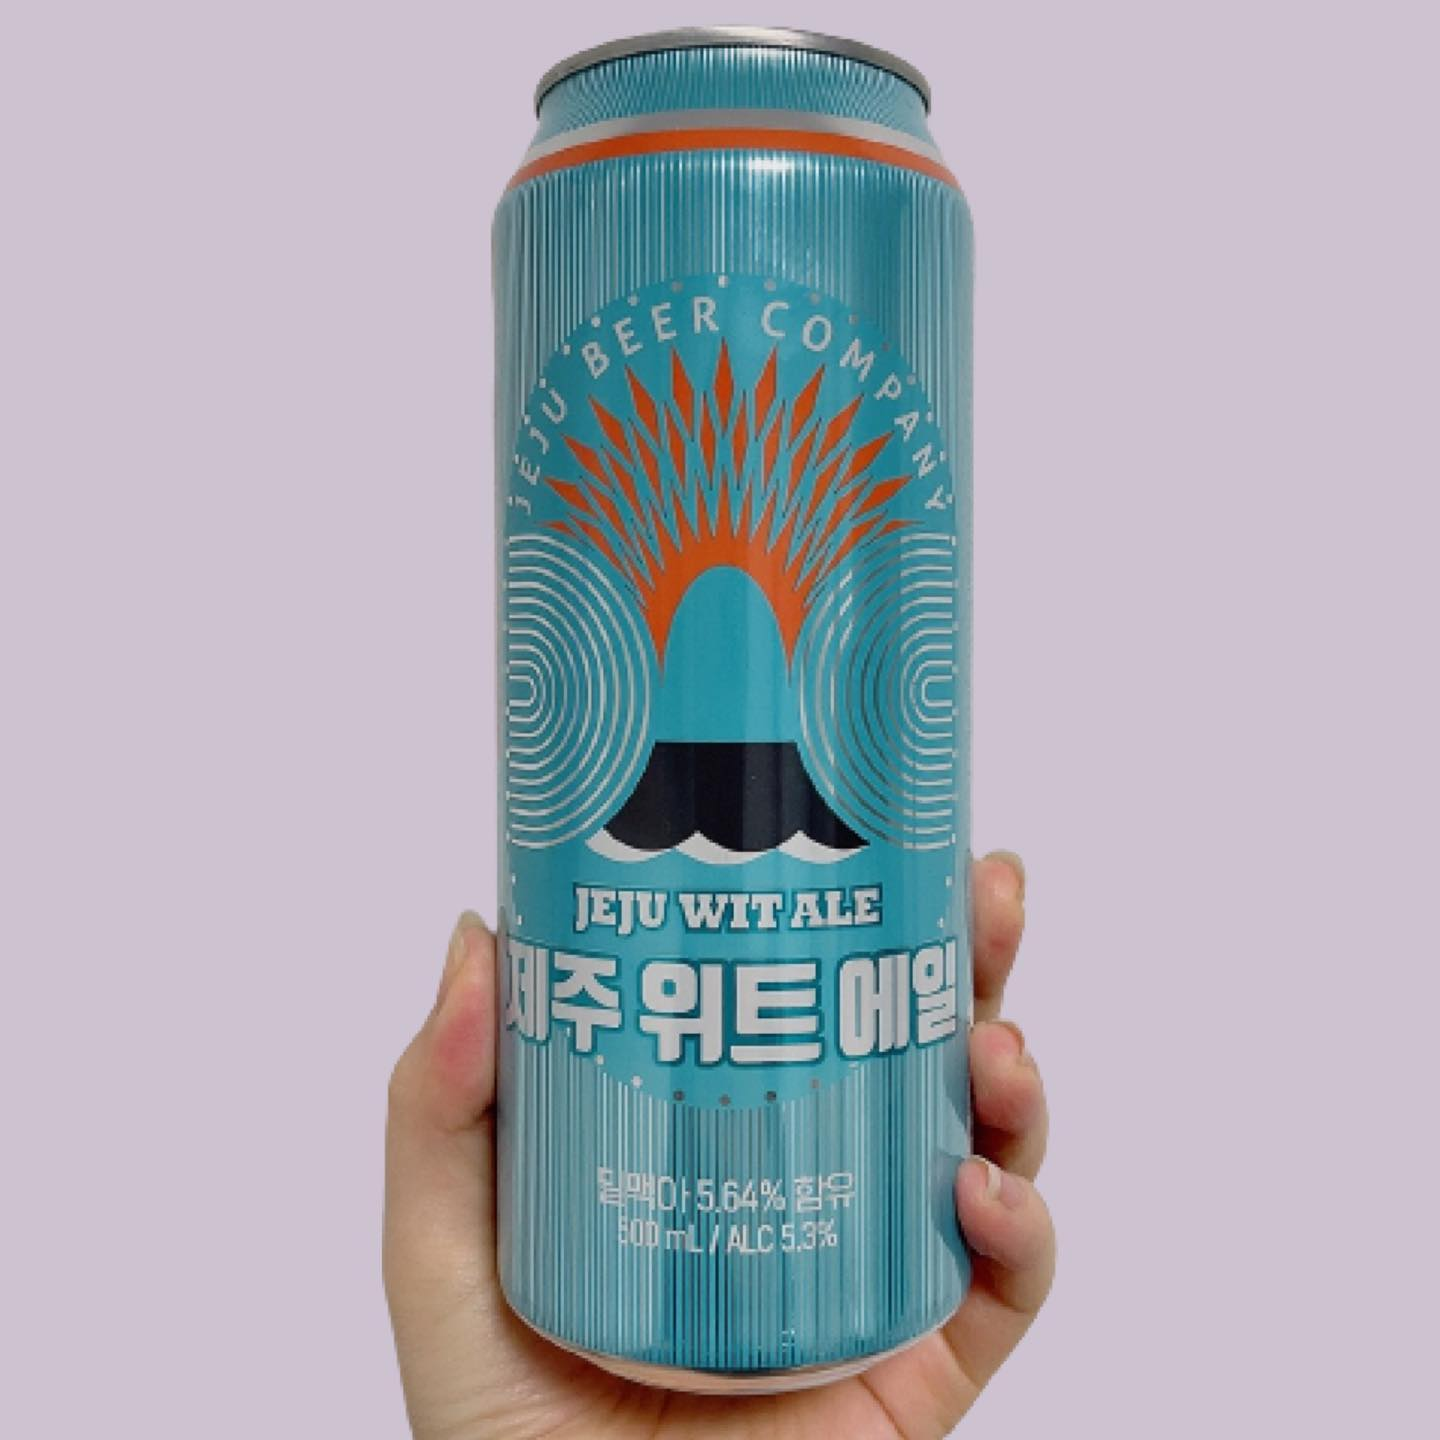alcohol: (483, 16, 986, 1408)
